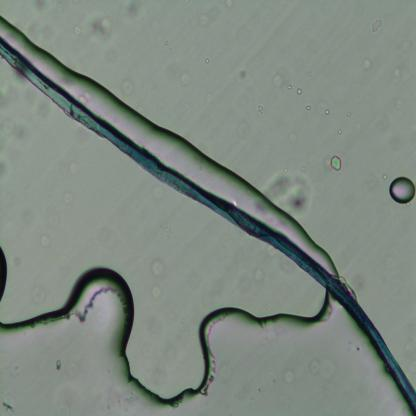Air bubble: (0, 264, 334, 415), (389, 175, 416, 205), (0, 242, 11, 306)
Background material: (138, 319, 191, 371), (264, 165, 316, 217), (74, 16, 116, 45), (234, 267, 270, 293), (0, 116, 27, 141), (0, 82, 23, 111), (151, 256, 165, 303), (124, 0, 146, 25), (0, 148, 13, 180), (36, 226, 54, 246), (276, 364, 294, 383), (64, 154, 80, 175), (34, 284, 48, 304), (235, 63, 249, 82), (64, 189, 77, 208), (285, 128, 298, 146), (361, 54, 373, 73), (330, 156, 342, 172), (204, 85, 215, 102), (272, 71, 283, 88), (371, 19, 382, 35), (180, 74, 192, 88), (257, 102, 265, 116), (54, 358, 62, 372), (370, 175, 377, 189), (336, 126, 342, 137), (396, 67, 402, 78), (381, 172, 389, 180), (304, 103, 312, 111), (296, 88, 302, 96), (325, 108, 330, 116), (308, 70, 313, 76)
Cotton: (0, 37, 416, 411)
